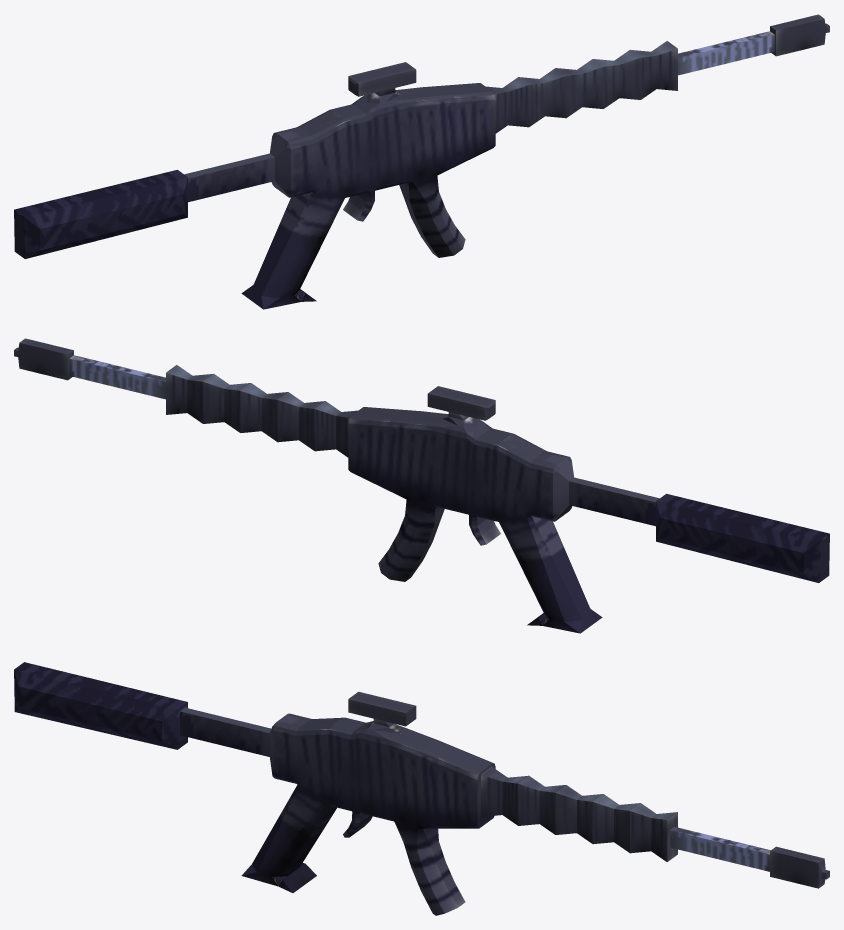
The model's file is fbrvbr_grun.glb.
The picture shows the model from 3 angles, top to bottom: view 1: azimuth 30°, elevation 25°; view 2: azimuth 150°, elevation 25°; view 3: azimuth 330°, elevation 25°; orthographic projection.
Parts seen in each view (by area): view 1: Cube; view 2: Cube; view 3: Cube.
Boxes of the visible parts, <box> form: Cube: <box>14,14,829,309</box>; Cube: <box>14,338,829,633</box>; Cube: <box>14,662,829,915</box>.
Size of the model in its own units: 2.72 by 0.6453 by 0.1411.
1 material, 1 textured.
